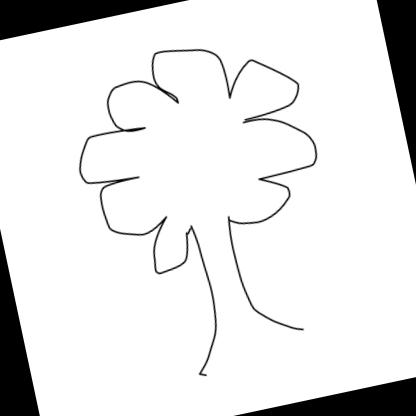crown_cloud: (58, 26, 334, 286)
trunk_straight: (192, 223, 270, 328)
